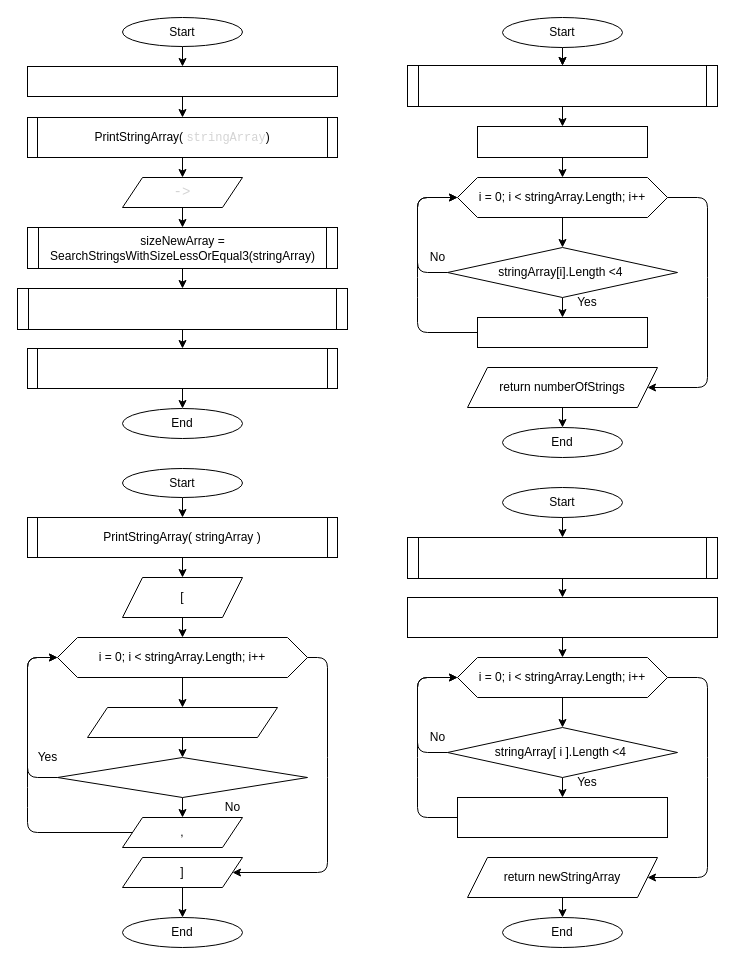
The diagram is 735 pixels wide and 965 high, and some of its shapes have lost their labels. Here are the shapes that lost their labels. From the top down, the centre of each, then its label:
[182,81]: stringArray = ["hello", "2", "world", ":-)"]
[562,85]: SearchStringsWithSizeLessOrEqual3( stringArray )
[562,142]: numberOfStrings = 0;
[182,309]: newStringArray = CreateArrayWithSizeLessOrEqual3 (stringArray, sizeNewArray)
[562,332]: numberOfStrings++
[182,368]: PrintStringArray( newStringArray )
[562,557]: CreateArrayWithSizeLessOrEqual3 ( stringArray, sizeNewArray )
[562,617]: string[] newStringArray = new string [ sizeNewArray ] j = 0;
[182,722]: "stringArray[ i ]"
[182,777]: i == stringArray.Length - 1
[562,817]: newStringArray[ j ] = stringArray[ i ] j++
